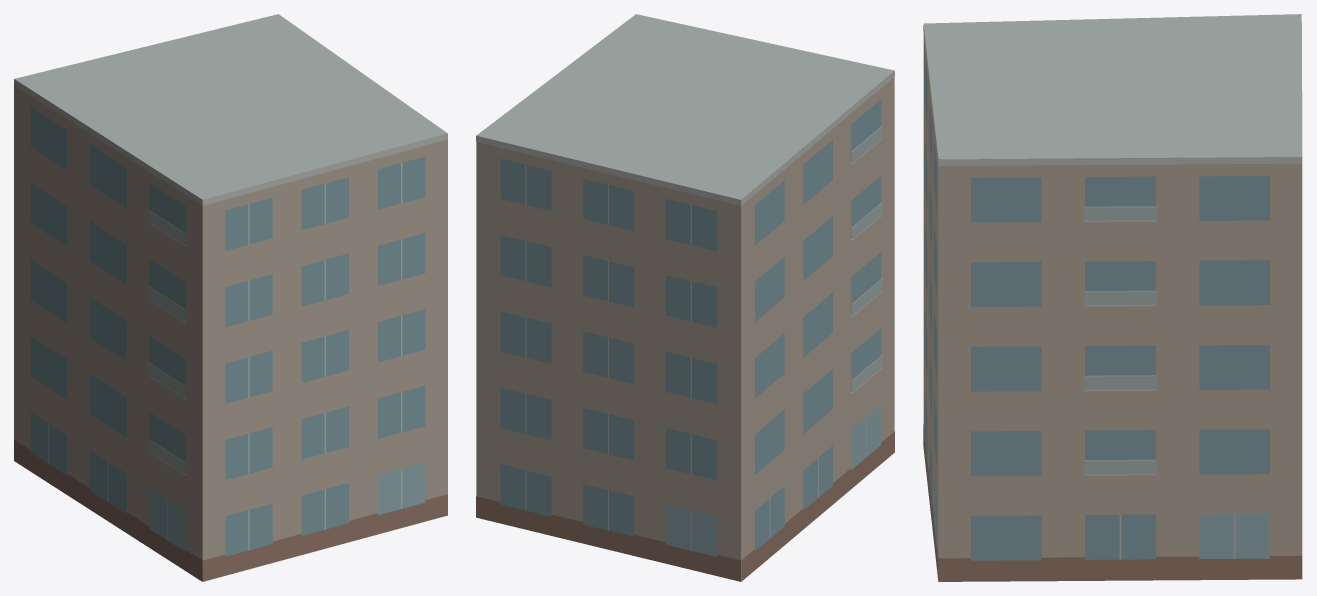
The model's file is survey-upis-32728488.glb.
3 views of the same model, side by side, from view 1: azimuth 30°, elevation 25°; view 2: azimuth 150°, elevation 25°; view 3: azimuth 270°, elevation 25° (orthographic). The views are drawn at different scales.
Visible parts, largest first — view 1: survey-upis-32728488.tmp; view 2: survey-upis-32728488.tmp; view 3: survey-upis-32728488.tmp.
Part boxes in pixels (box(x1,y1,x2,y2)): survey-upis-32728488.tmp: box(14, 14, 447, 581); survey-upis-32728488.tmp: box(476, 14, 894, 581); survey-upis-32728488.tmp: box(923, 14, 1302, 581).
Size of the model in its own units: 11.26 by 15.25 by 12.41.
